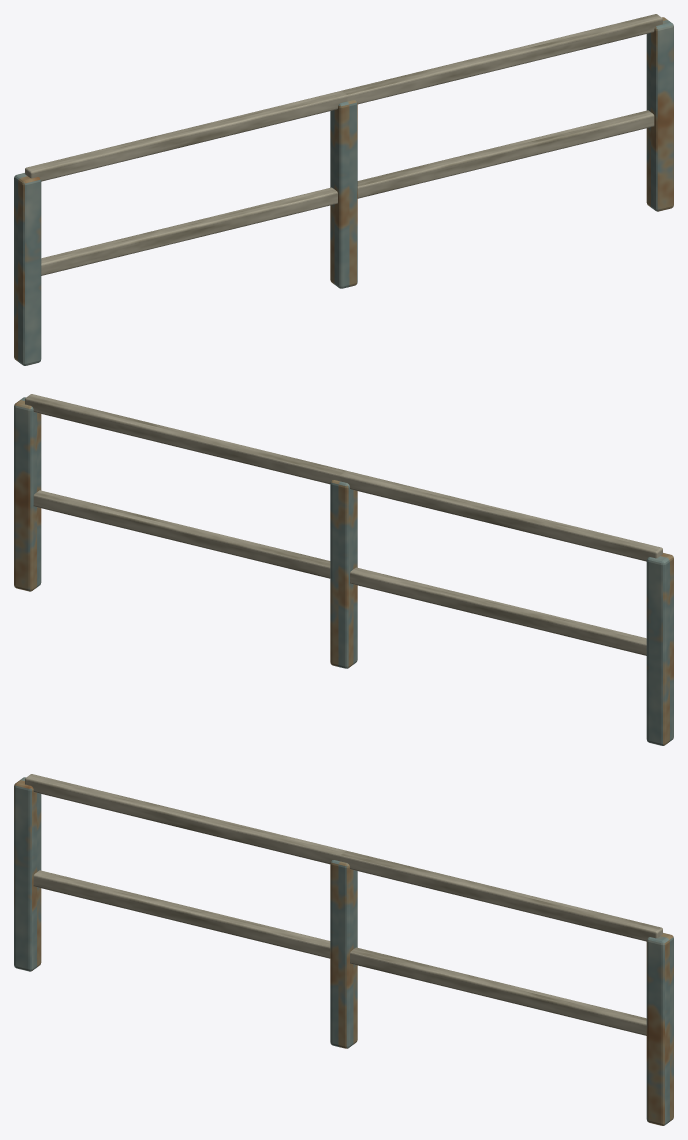
The model's file is Dock_Rail_4m.glb.
The picture shows the model from 3 angles, top to bottom: view 1: azimuth 30°, elevation 25°; view 2: azimuth 150°, elevation 25°; view 3: azimuth 330°, elevation 25°; orthographic projection.
Parts seen in each view (by area): view 1: Dock_Rail_4m; view 2: Dock_Rail_4m; view 3: Dock_Rail_4m.
Part boxes in pixels (left/top/right/bottom): Dock_Rail_4m: left=14, top=14, right=673, bottom=365; Dock_Rail_4m: left=14, top=394, right=673, bottom=745; Dock_Rail_4m: left=14, top=774, right=673, bottom=1125.
Size of the model in its own units: 4.12 by 1.16 by 0.12.
Materials: 2 (2 with a texture image).
